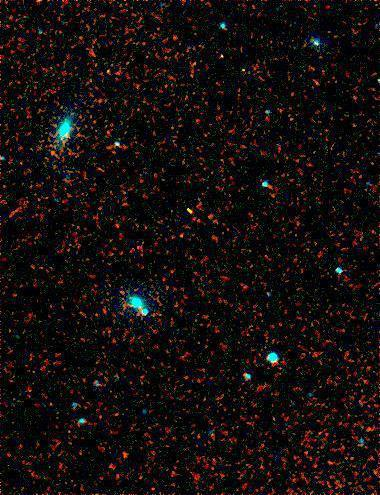star: (110, 440, 140, 470)
